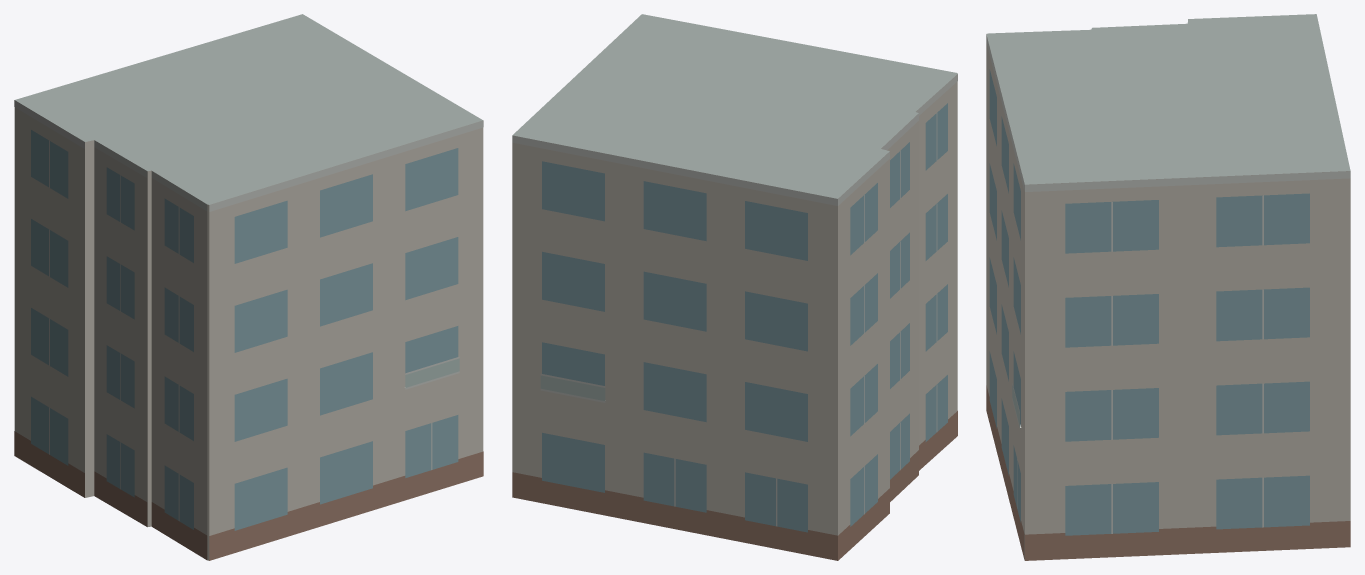
Rendered from survey-upis-32818573.glb.
3 renders of one model, left to right at view 1: azimuth 30°, elevation 25°; view 2: azimuth 150°, elevation 25°; view 3: azimuth 270°, elevation 25°, orthographic. The views are drawn at different scales.
Visible parts, largest first — view 1: survey-upis-32818573.tmp; view 2: survey-upis-32818573.tmp; view 3: survey-upis-32818573.tmp.
Part boxes in pixels (bbox=[...]): survey-upis-32818573.tmp: bbox=[14, 14, 483, 560]; survey-upis-32818573.tmp: bbox=[512, 14, 957, 560]; survey-upis-32818573.tmp: bbox=[986, 14, 1350, 560].
Size of the model in its own units: 11.88 by 12.2 by 10.72.
